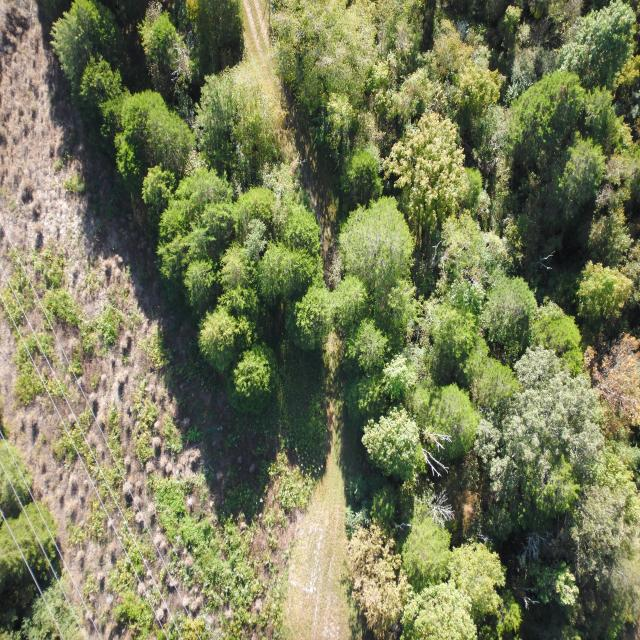Area of Interest: (63, 36, 638, 633)
